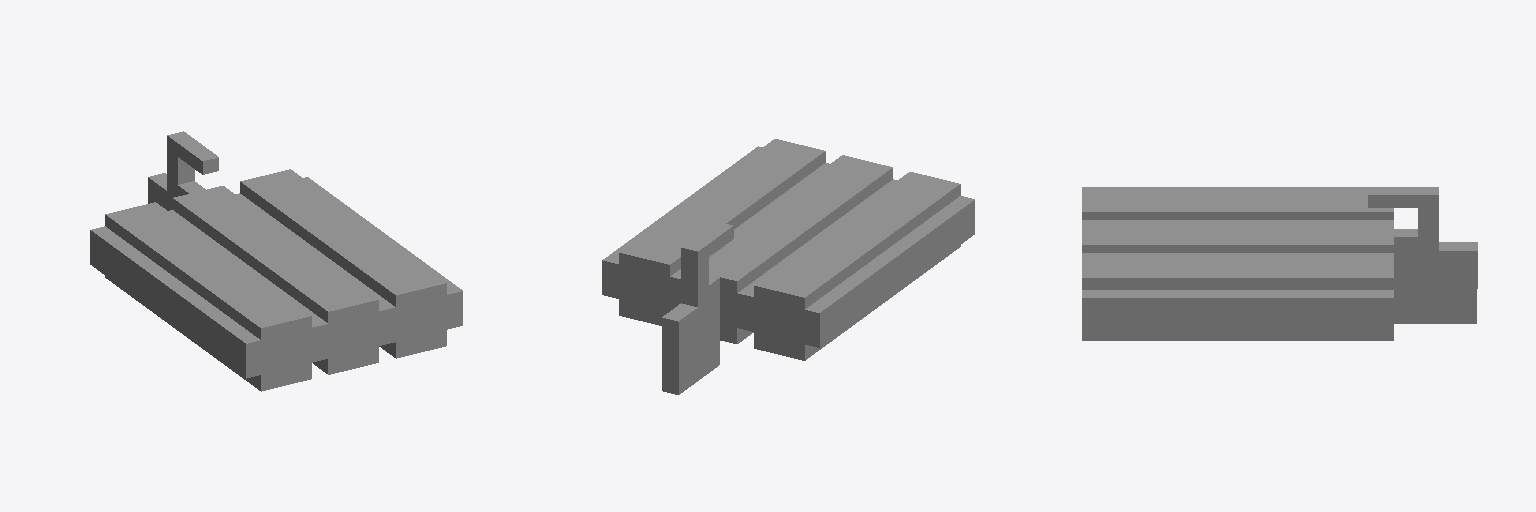
Rendered from boats_boat.obj.
The picture shows the model from 3 angles: view 1: azimuth 30°, elevation 25°; view 2: azimuth 150°, elevation 25°; view 3: azimuth 270°, elevation 25°; orthographic projection.
Visible parts, largest first — view 1: boats_boat_boats_boat_None; view 2: boats_boat_boats_boat_None; view 3: boats_boat_boats_boat_None.
Boxes of the visible parts, <box> form: boats_boat_boats_boat_None: <box>90,131,462,391</box>; boats_boat_boats_boat_None: <box>602,139,974,394</box>; boats_boat_boats_boat_None: <box>1082,187,1477,340</box>.
Bounding box in the file's own units: 14.66 × 8.35 × 23.09.